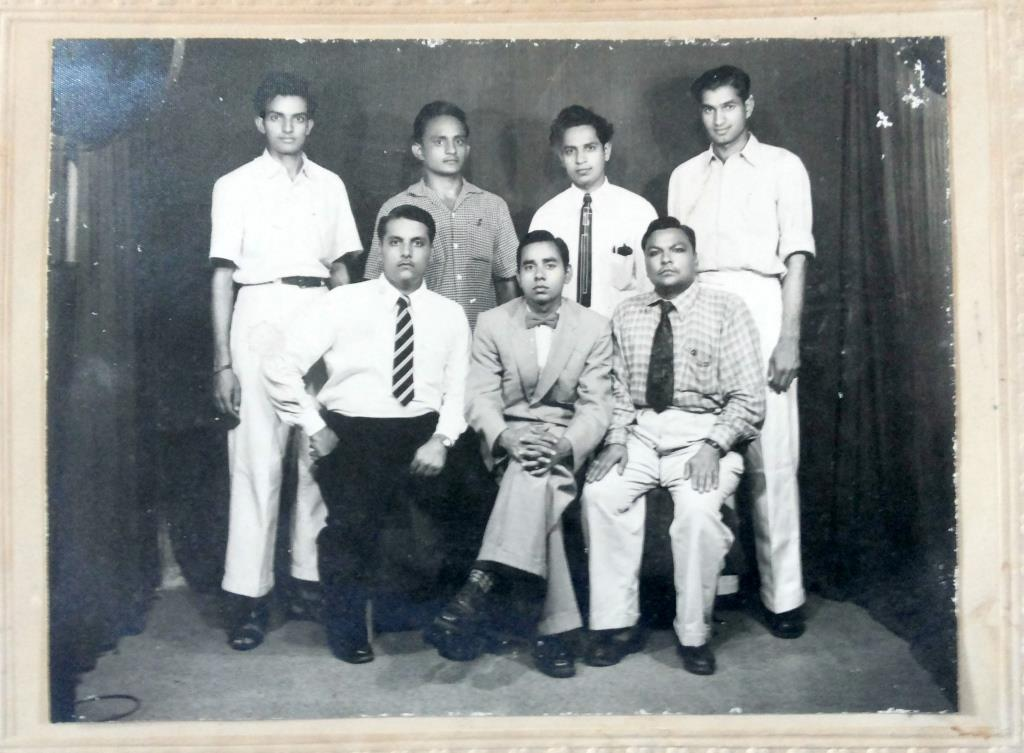men: (687, 62, 771, 165), (509, 221, 598, 316), (248, 66, 331, 162), (539, 104, 621, 188), (629, 216, 711, 299), (408, 99, 488, 179), (373, 205, 443, 283)
